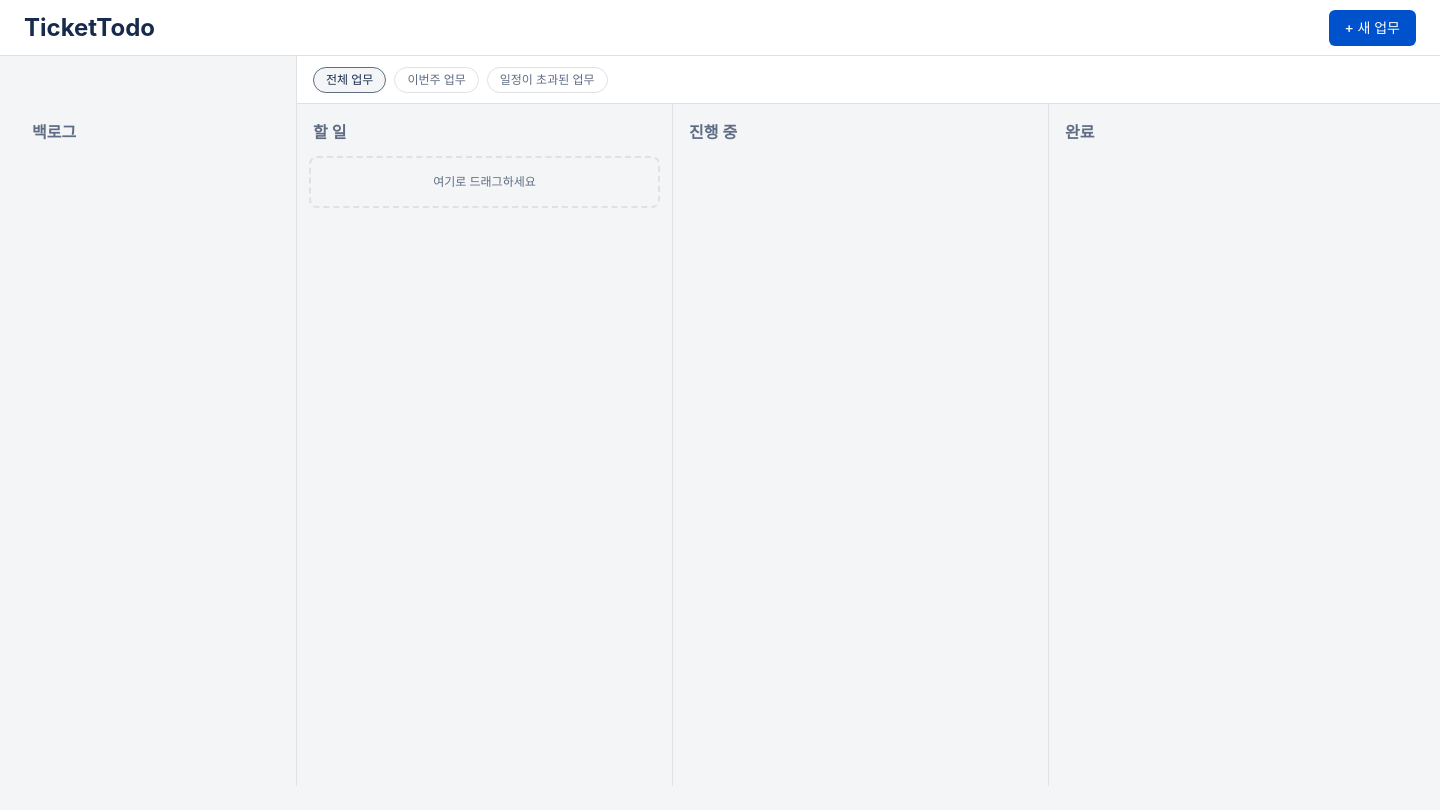
Test: 시나리오 A — 새 티켓 생성 › TC-INT-001: "새 업무" 클릭 → CreateModal 오픈
Expected: the list "백로그" is shown, x1=32 y1=122 x2=76 y2=142
Click the button "+ 새 업무". click: (1372, 28)
box: x1=1328 y1=10 x2=1416 y2=46
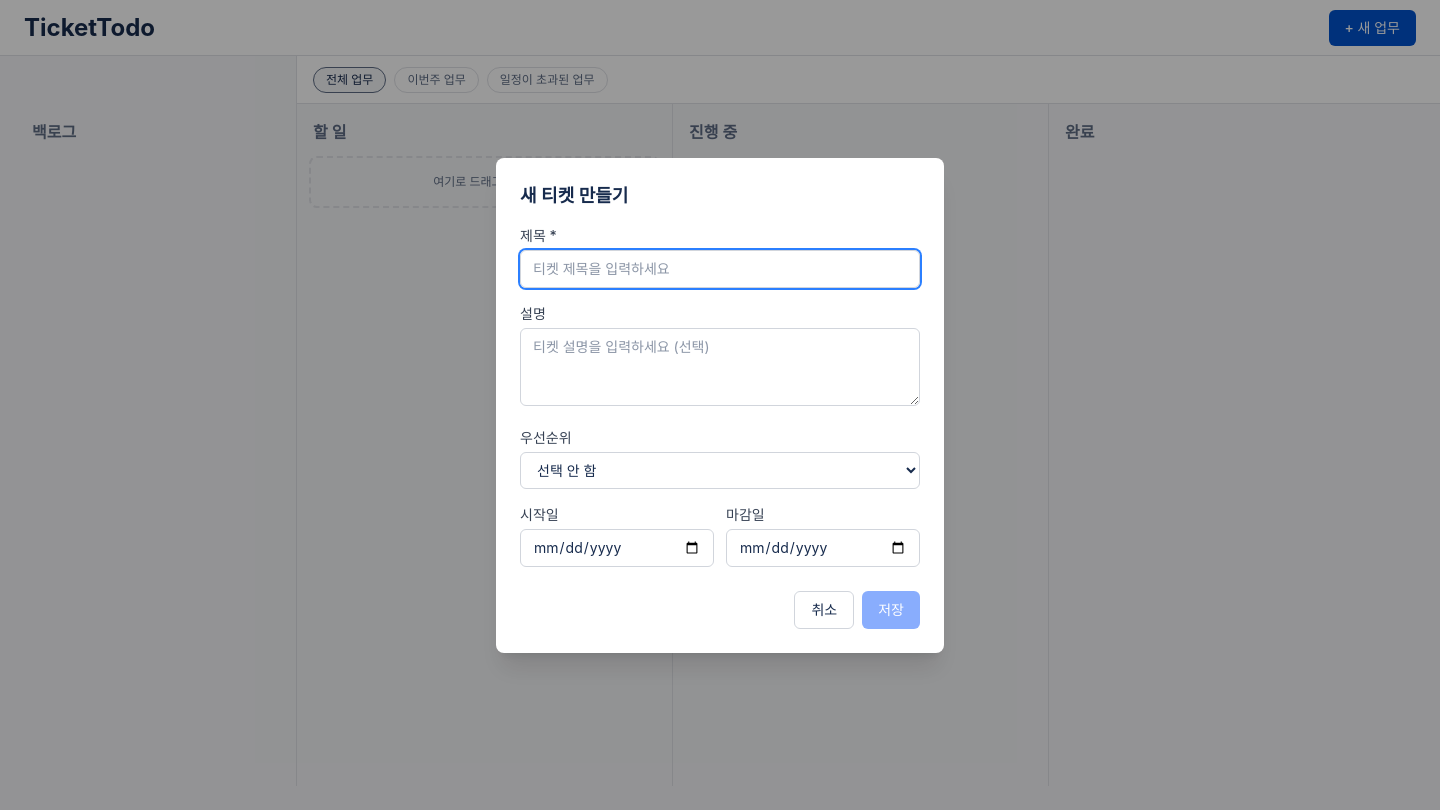
Expected: the dialog is shown
